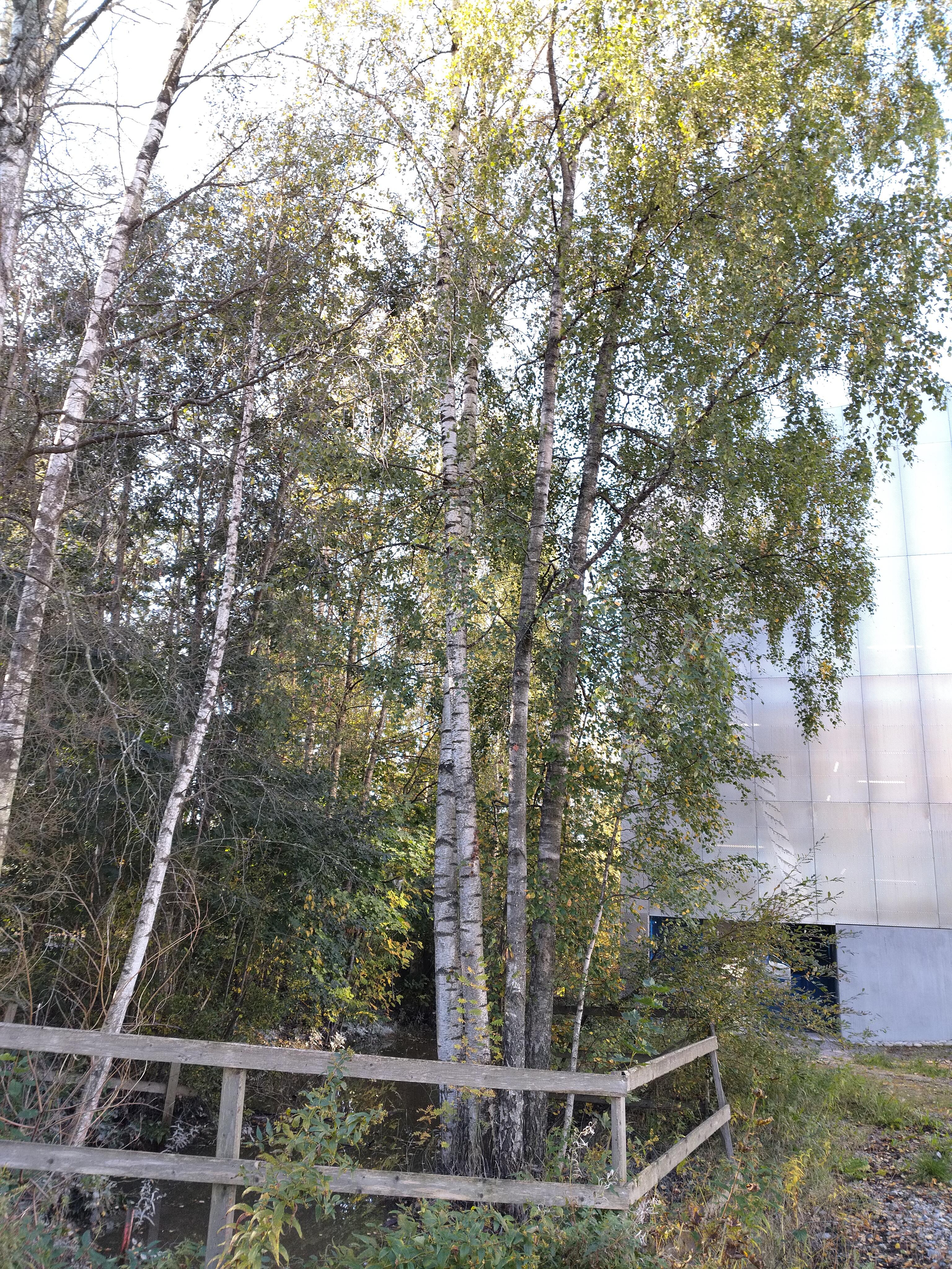Birch: (394, 0, 831, 1038), (1, 0, 318, 1006)
